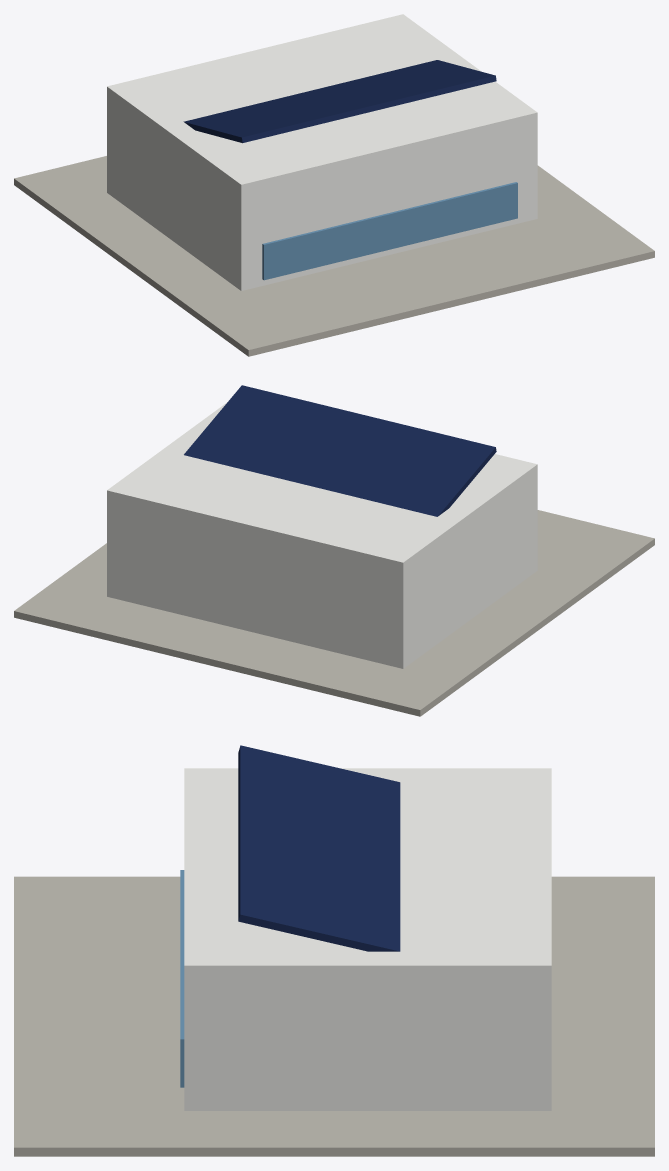
File: zone_I_d1_e4.glb
The picture shows the model from 3 angles, top to bottom: view 1: azimuth 30°, elevation 25°; view 2: azimuth 150°, elevation 25°; view 3: azimuth 270°, elevation 25°; orthographic projection. The views are drawn at different scales.
Parts seen in each view (by area): view 1: zone_I_d1_e4; view 2: zone_I_d1_e4; view 3: zone_I_d1_e4.
Part boxes in pixels (x1,y1,x2,y2): zone_I_d1_e4: [14, 14, 654, 356]; zone_I_d1_e4: [14, 385, 654, 716]; zone_I_d1_e4: [14, 745, 654, 1156].
Size of the model in its own units: 0.96 by 0.3161 by 0.96.
